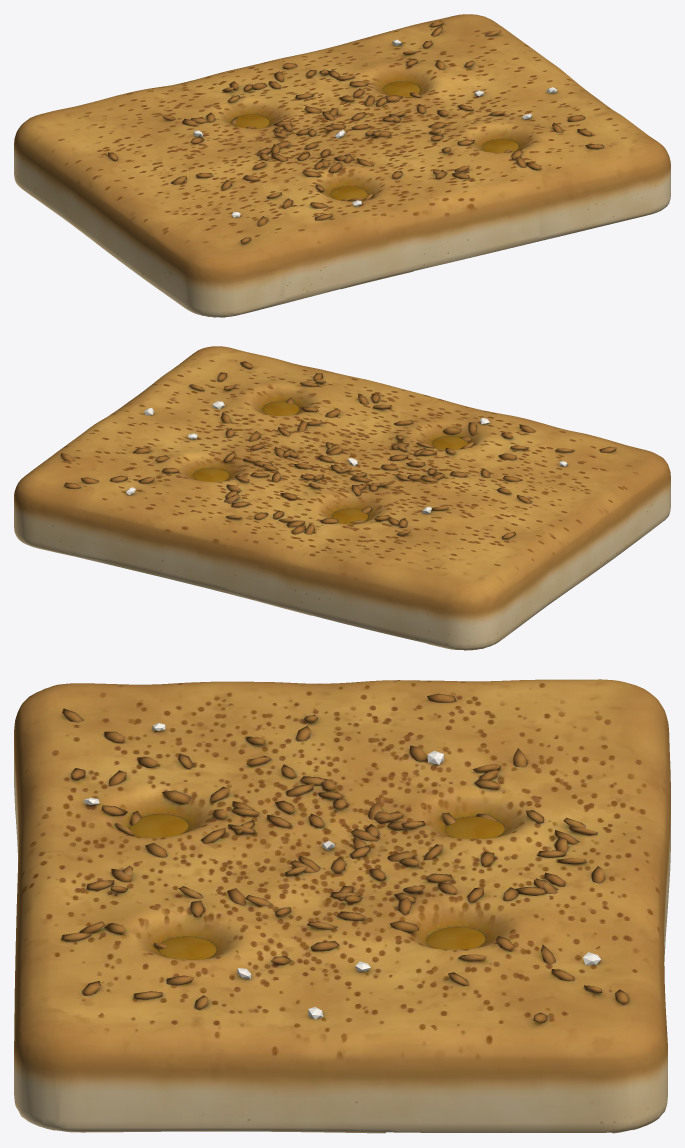
File: focaccia--flaxseed-seed.glb
3 renders of one model, top to bottom at view 1: azimuth 30°, elevation 25°; view 2: azimuth 150°, elevation 25°; view 3: azimuth 270°, elevation 25°, orthographic. The views are drawn at different scales.
Parts seen in each view (by area): view 1: focaccia_flaxseed-seed; view 2: focaccia_flaxseed-seed; view 3: focaccia_flaxseed-seed.
Boxes of the visible parts, x1,y1,x2,y2 form: focaccia_flaxseed-seed: (14,14,670,317); focaccia_flaxseed-seed: (14,346,670,650); focaccia_flaxseed-seed: (14,679,670,1133).
Bounding box in the file's own units: 1.01 × 0.1361 × 0.7441.
1 material, 1 textured.
